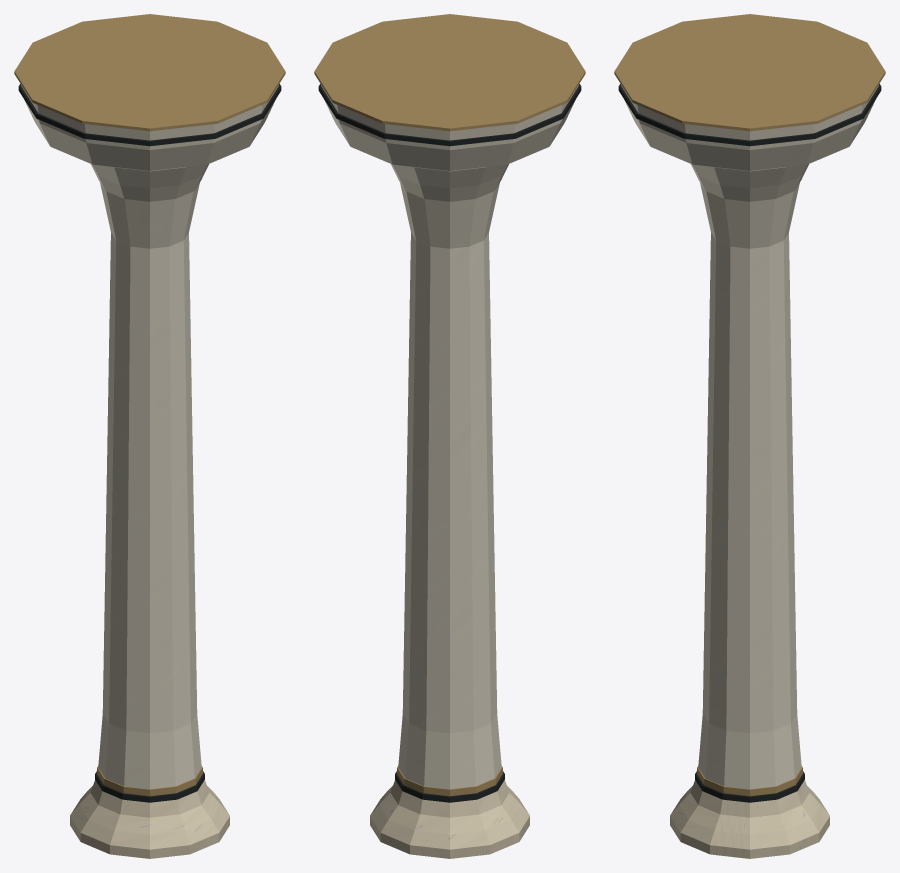
The model's file is AST-STR-001-H810.glb.
3 renders of one model, left to right at view 1: azimuth 30°, elevation 25°; view 2: azimuth 150°, elevation 25°; view 3: azimuth 270°, elevation 25°, orthographic.
Parts seen in each view (by area): view 1: STR_TaperedShaft, STR_CeilingBearing, STR_Capital, STR_StoneFoot, STR_CapitalShadow, STR_LowerMetalBand, STR_BaseReveal; view 2: STR_TaperedShaft, STR_CeilingBearing, STR_Capital, STR_StoneFoot, STR_CapitalShadow, STR_LowerMetalBand, STR_BaseReveal; view 3: STR_TaperedShaft, STR_CeilingBearing, STR_Capital, STR_StoneFoot, STR_CapitalShadow, STR_LowerMetalBand, STR_BaseReveal.
Part boxes in pixels (left/top/right/bottom): STR_TaperedShaft: left=98, top=183, right=201, bottom=789; STR_CeilingBearing: left=14, top=14, right=285, bottom=131; STR_Capital: left=21, top=85, right=278, bottom=201; STR_StoneFoot: left=70, top=780, right=229, bottom=858; STR_CapitalShadow: left=18, top=84, right=281, bottom=146; STR_LowerMetalBand: left=97, top=766, right=202, bottom=796; STR_BaseReveal: left=95, top=771, right=204, bottom=802; STR_TaperedShaft: left=398, top=183, right=501, bottom=789; STR_CeilingBearing: left=314, top=14, right=585, bottom=131; STR_Capital: left=321, top=85, right=578, bottom=201; STR_StoneFoot: left=370, top=780, right=529, bottom=858; STR_CapitalShadow: left=318, top=84, right=581, bottom=146; STR_LowerMetalBand: left=397, top=766, right=502, bottom=796; STR_BaseReveal: left=395, top=771, right=504, bottom=802; STR_TaperedShaft: left=698, top=183, right=801, bottom=789; STR_CeilingBearing: left=614, top=14, right=885, bottom=131; STR_Capital: left=621, top=85, right=878, bottom=201; STR_StoneFoot: left=670, top=780, right=829, bottom=858; STR_CapitalShadow: left=618, top=84, right=881, bottom=146; STR_LowerMetalBand: left=697, top=766, right=802, bottom=796; STR_BaseReveal: left=695, top=771, right=804, bottom=802.
Bounding box in the file's own units: 2.64 × 8.1 × 2.64.
5 materials, 4 textured.
